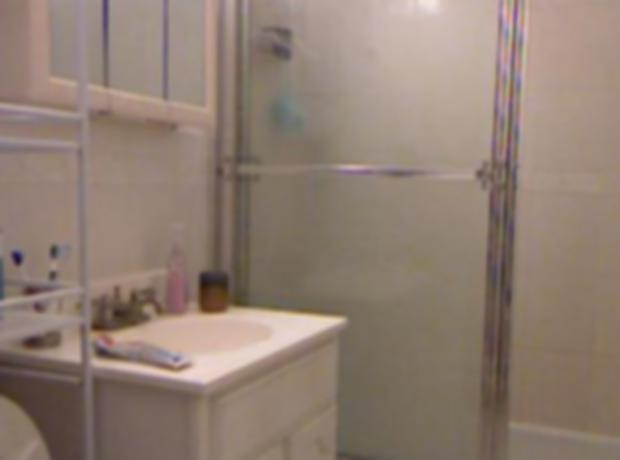Ducha: (241, 0, 620, 460)
Lavamanos: (77, 280, 292, 396)
Sanitario: (0, 393, 66, 460)
